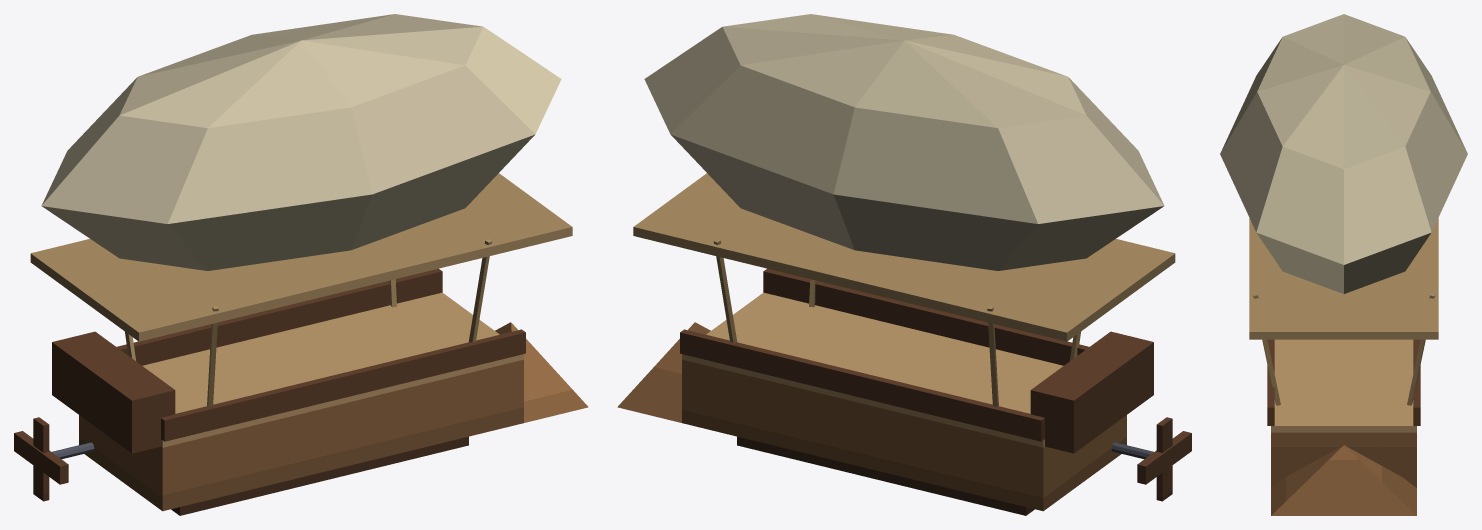
Rendered from airship.glb.
3 views of the same model, side by side, from view 1: azimuth 30°, elevation 25°; view 2: azimuth 150°, elevation 25°; view 3: azimuth 270°, elevation 25° (orthographic). The views are drawn at different scales.
Size of the model in its own units: 3.63 by 2.8 by 1.7.
1 material, 1 textured.
